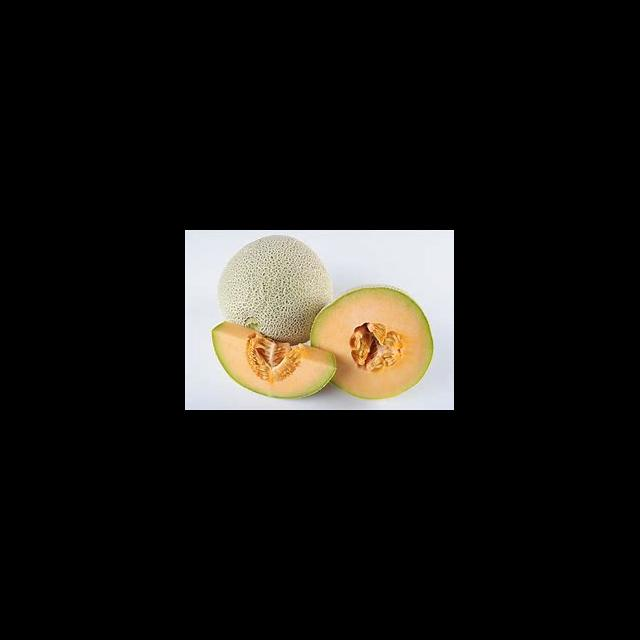Hami Melon: (311, 285, 434, 400), (216, 234, 335, 344), (212, 321, 337, 400)
